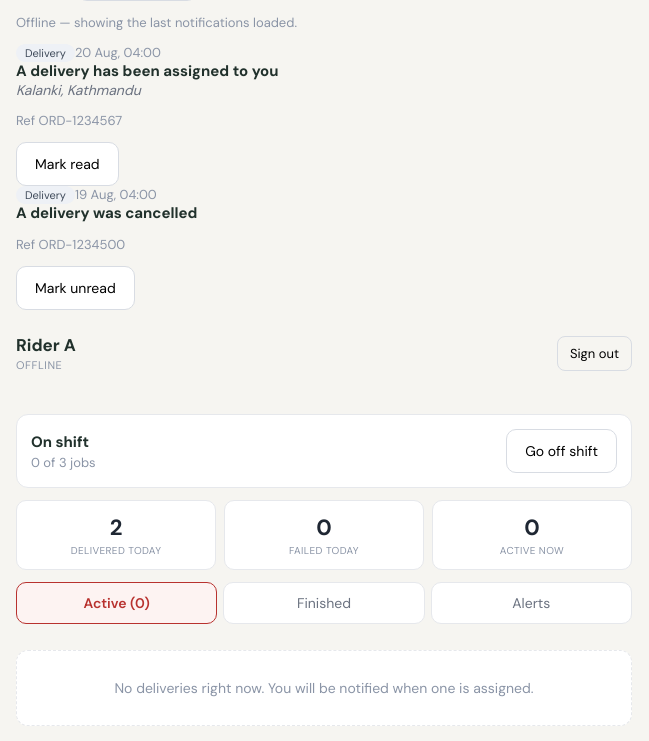
Scenario: Phase 24 · rider notification centre › disables mark-all when there is nothing unread
(page scrolled)
What coordinates should you click on to do the following:
click the button "Alerts"
I would click on:
 (531, 603)
Its box is [431, 582, 632, 624].
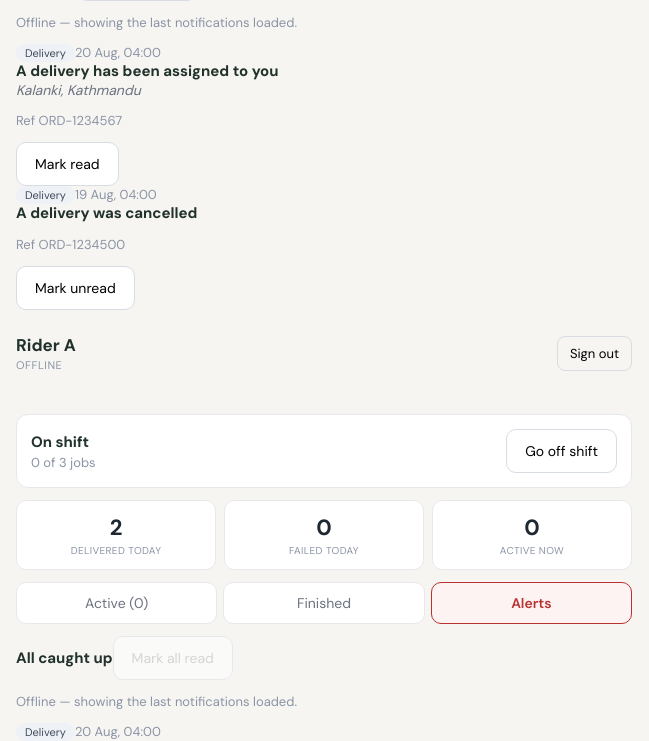
expect the text "All caught up" is shown: met, box [16, 648, 113, 668]
